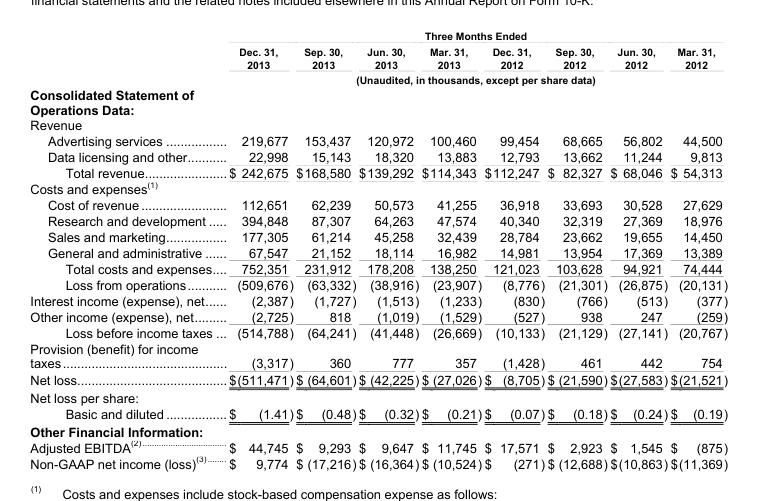table: (29, 29, 727, 470)
table column: (29, 29, 220, 470), (220, 29, 294, 470), (356, 29, 419, 470), (419, 29, 482, 470), (482, 29, 545, 470), (545, 29, 608, 470), (294, 29, 356, 470), (608, 29, 668, 470), (668, 29, 727, 470)
table column header: (29, 29, 727, 86)
table projected row header: (29, 86, 727, 117), (29, 179, 727, 196), (29, 388, 727, 405), (29, 422, 727, 438), (29, 117, 727, 132)
table row: (29, 86, 727, 117), (29, 340, 727, 371), (29, 43, 727, 71), (29, 179, 727, 196), (29, 371, 727, 388), (29, 388, 727, 405), (29, 405, 727, 422), (29, 132, 727, 148), (29, 148, 727, 164), (29, 196, 727, 212), (29, 212, 727, 228), (29, 228, 727, 244), (29, 244, 727, 260), (29, 260, 727, 276), (29, 276, 727, 292), (29, 292, 727, 308), (29, 308, 727, 324), (29, 324, 727, 340), (29, 422, 727, 438), (29, 438, 727, 454), (29, 454, 727, 470), (29, 71, 727, 86), (29, 117, 727, 132), (29, 164, 727, 179), (29, 29, 727, 43)
table spanning cell: (220, 71, 727, 86), (220, 29, 727, 43)
